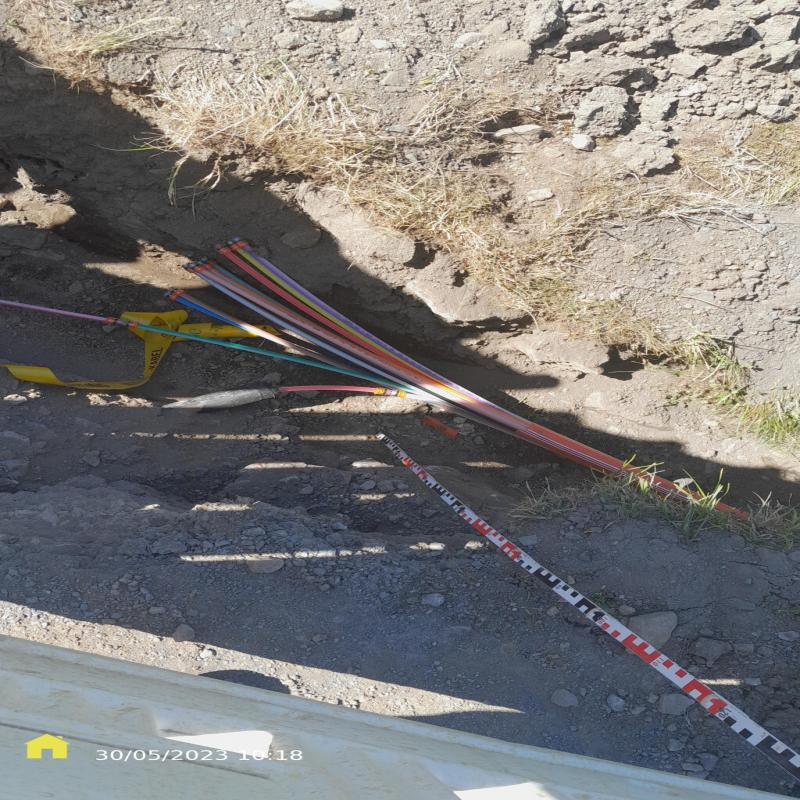Orang-Speednetrohrchen: (163, 234, 751, 523)
